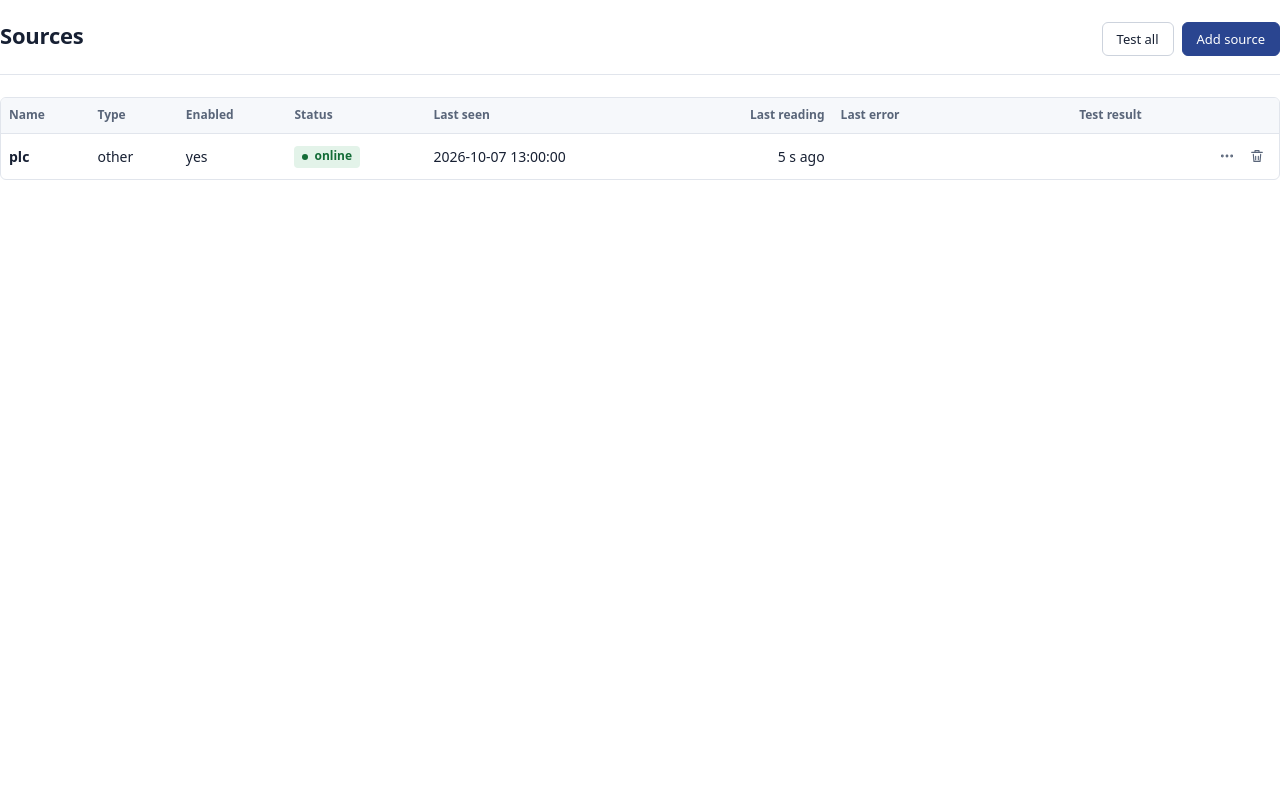
SourcesPage › adding and editing › edits a source whose connector is the last in the list with that connector's fields, and sends them
Click the button named "Actions for " at (1227, 156), box [1213,142,1241,170]
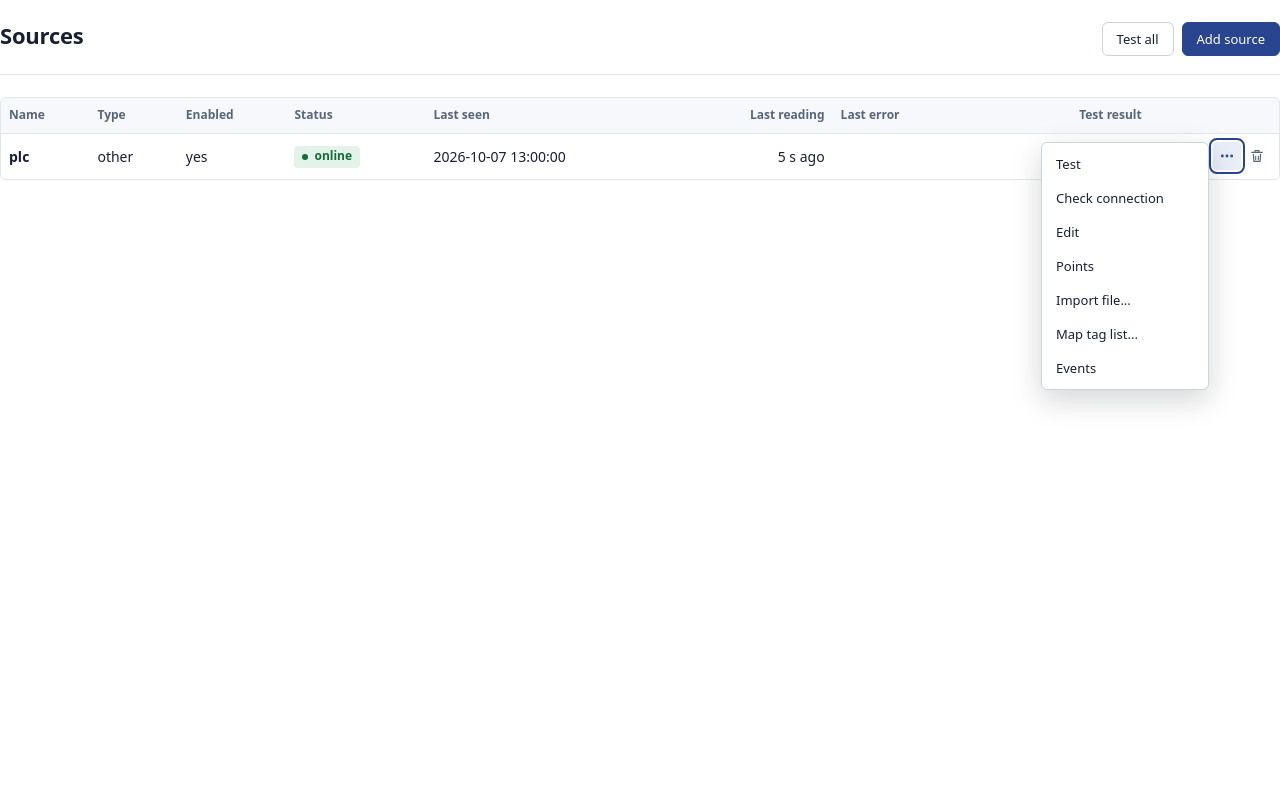
Click the menu item "Edit" at (1125, 232), box [1046,215,1204,249]
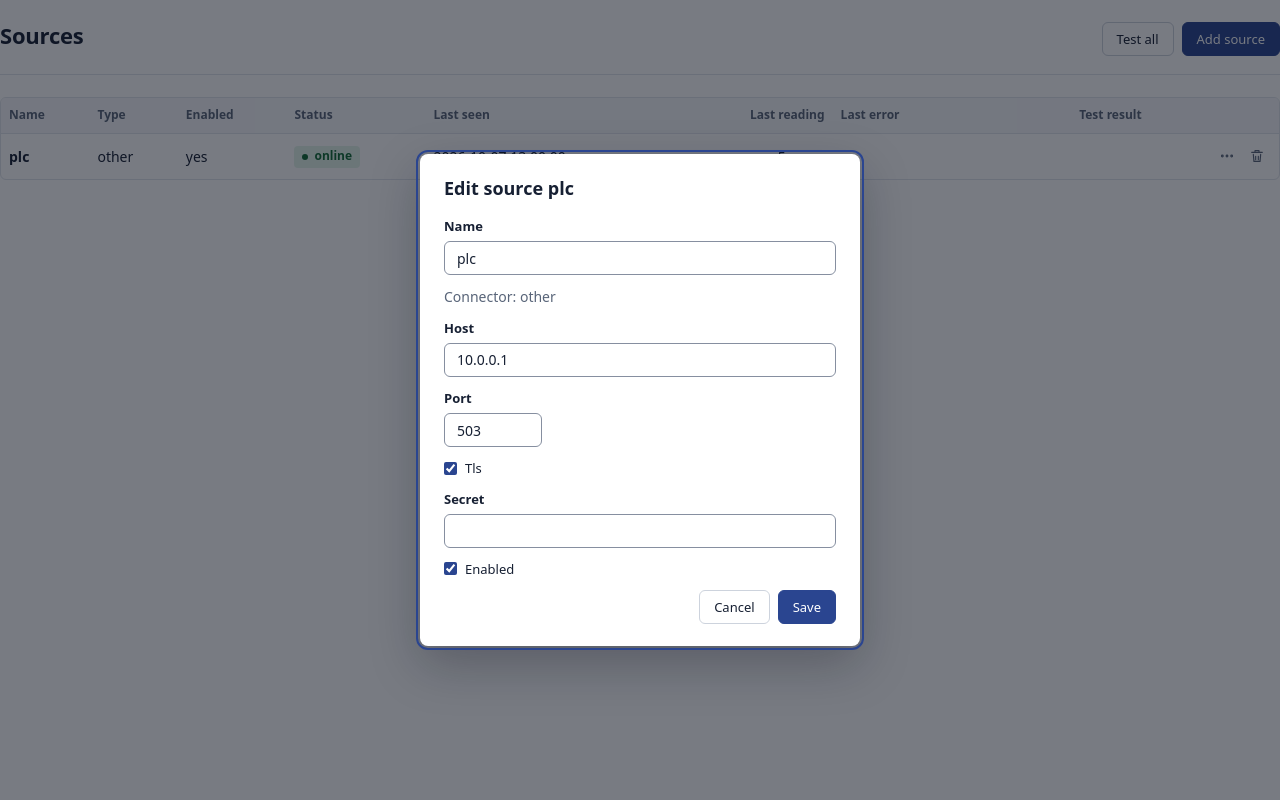
Now the field labelled "Host" holds "10.0.0.1", box [444,343,836,377]
Replace the text in the number field labelled "Port" with "504" at (493, 430), box [444,413,542,447]
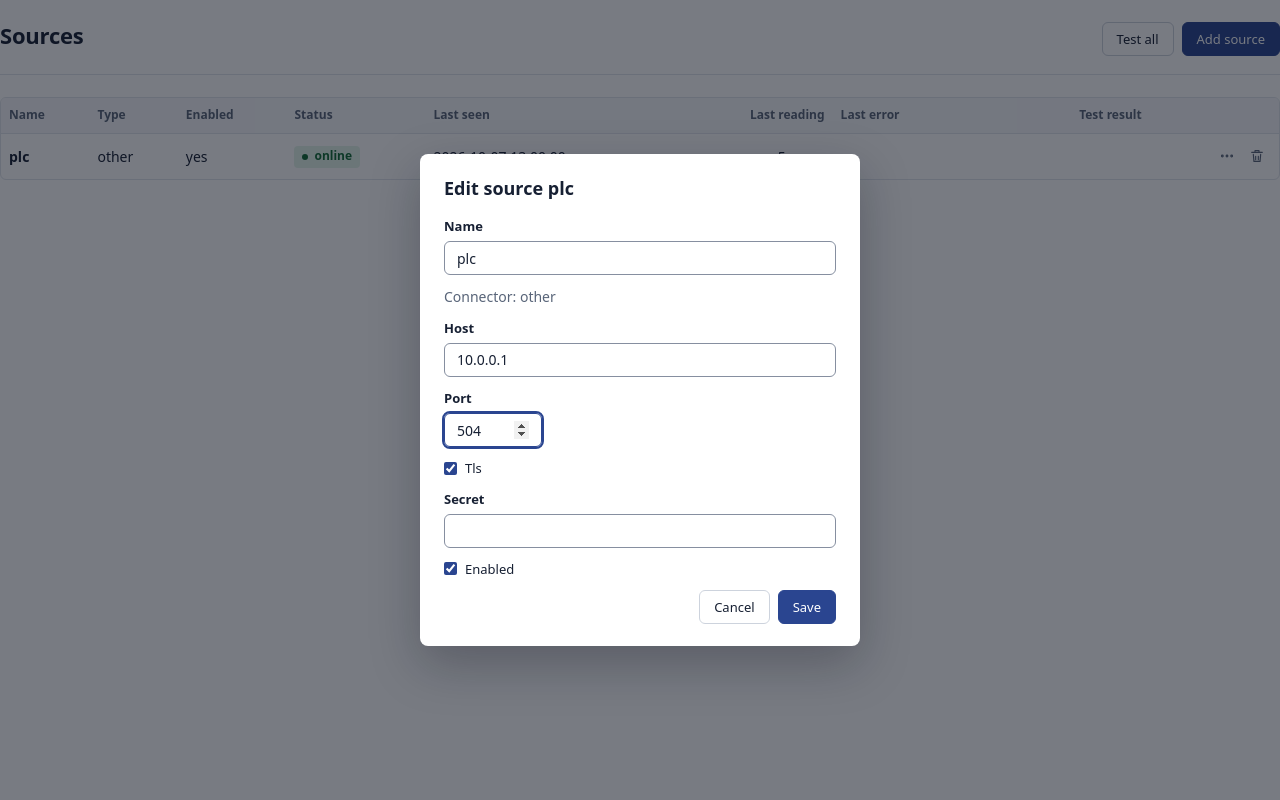
Click the button "Save" at (807, 607), box [778,590,836,624]
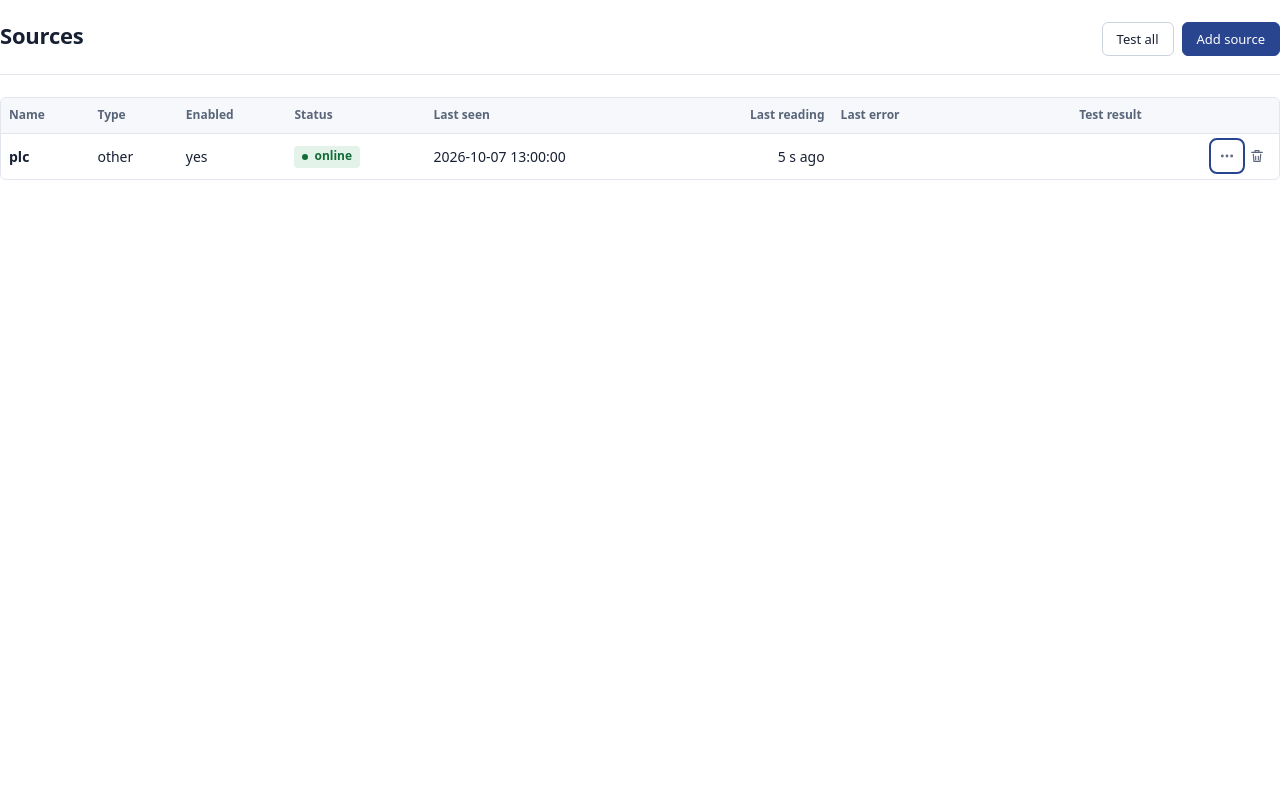
Now the dialog is gone
